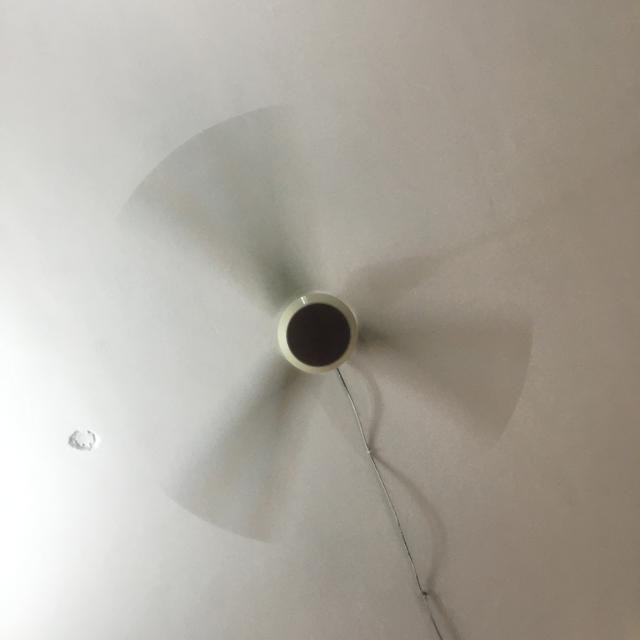on: (120, 87, 548, 550)
